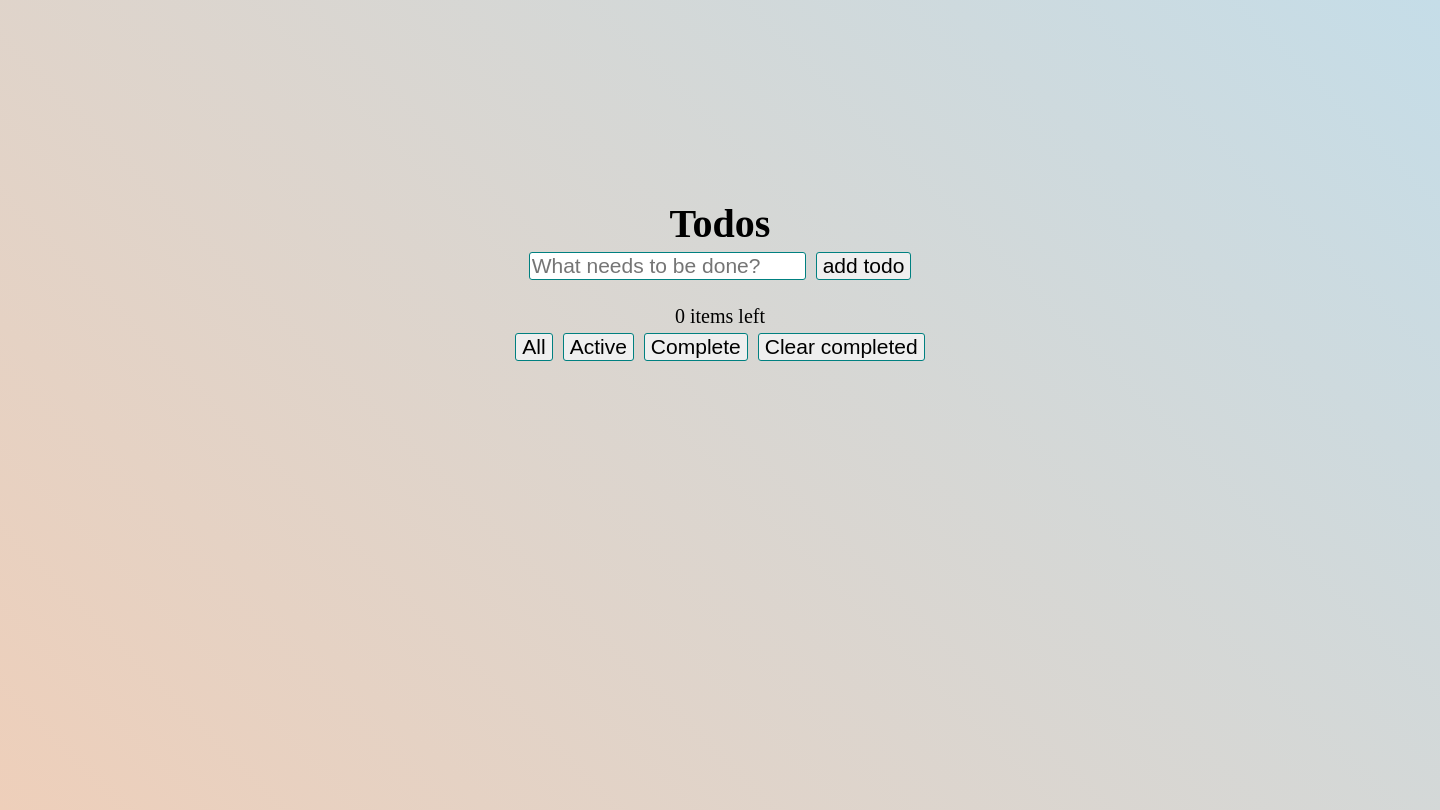
Scenario: testing first state › add/delete-todo-element
Step 1. Click the button with test id "addToto-btn" → (864, 266), box [816, 252, 911, 280]
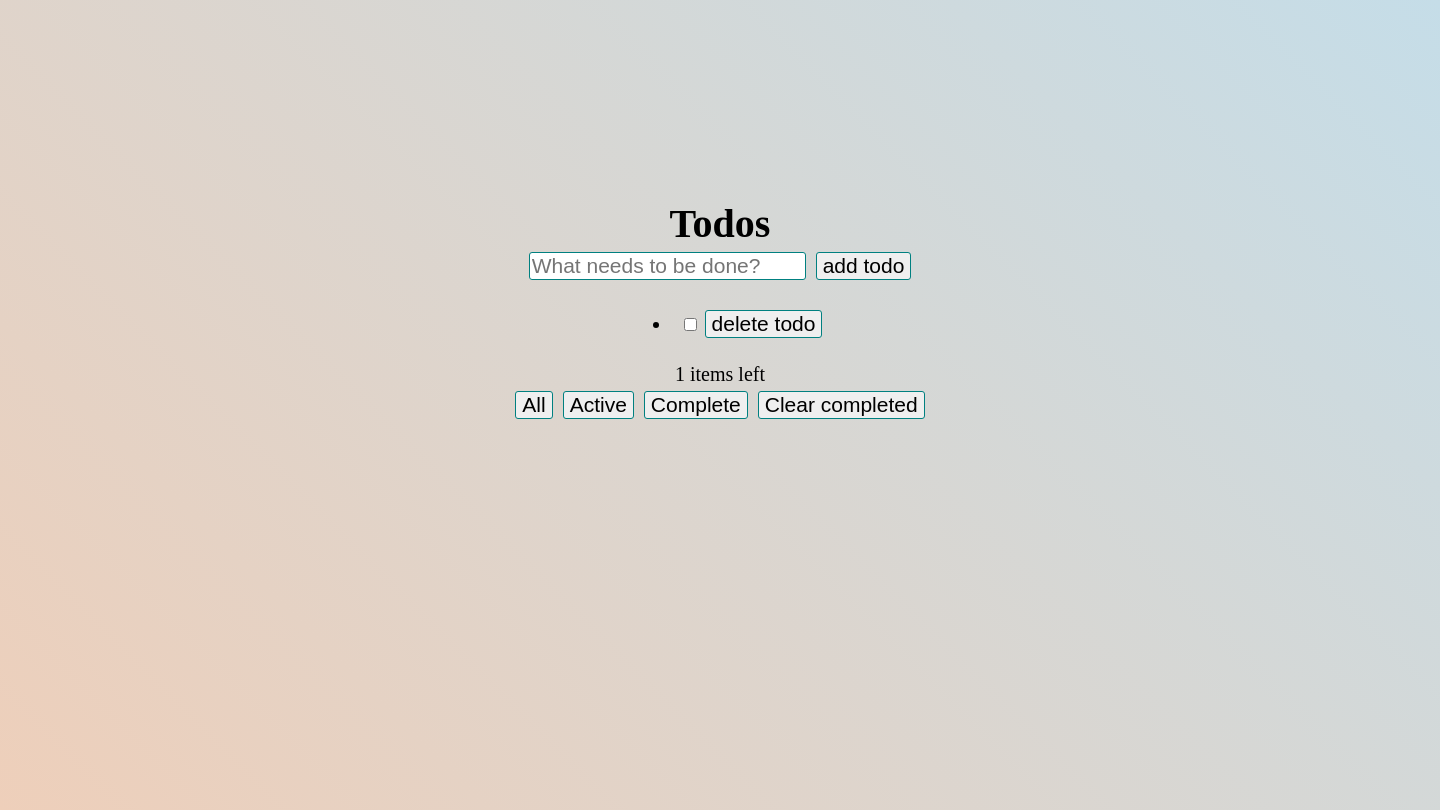
Check: the list item with test id "todo-element" is shown, box [684, 310, 822, 338]
Step 2. Click the checkbox with test id "togglecheckbox" → (690, 324), box [684, 318, 696, 331]
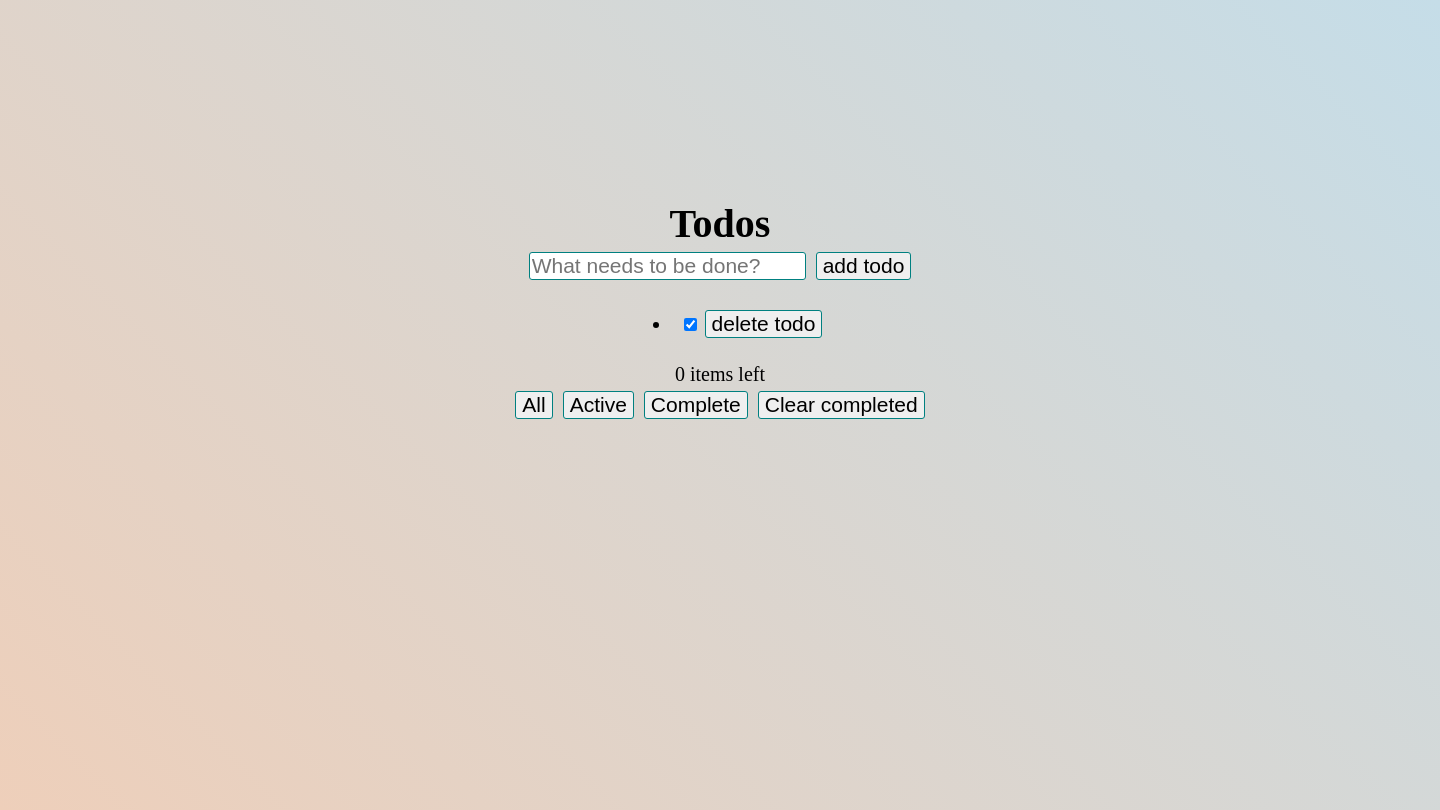
Step 3. Click the button with test id "deleteTodo-btn" → (763, 324), box [704, 310, 822, 338]
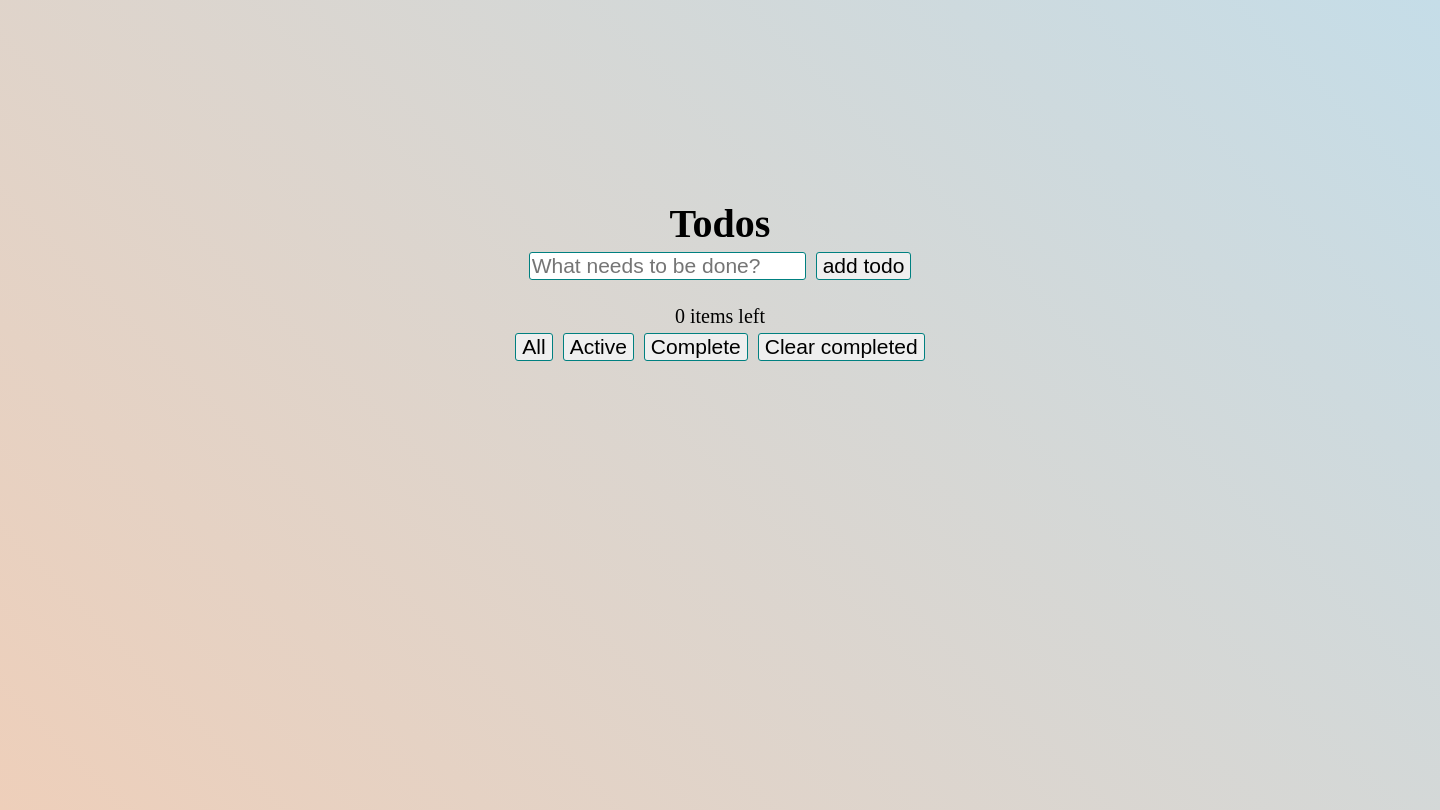
Check: the list item with test id "todo-element" is gone
